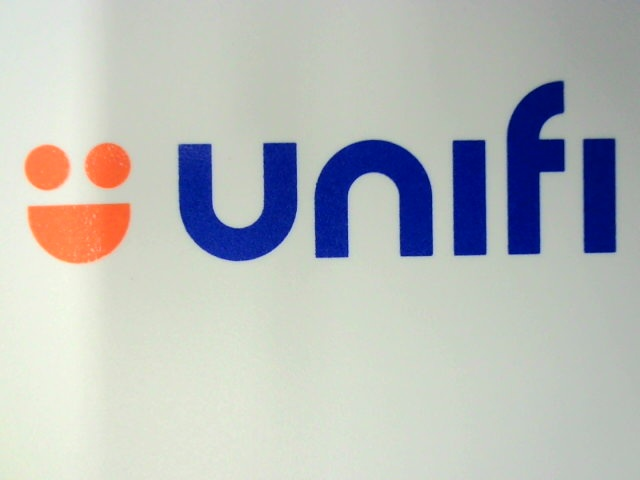BN_unifi: (19, 74, 620, 265)
